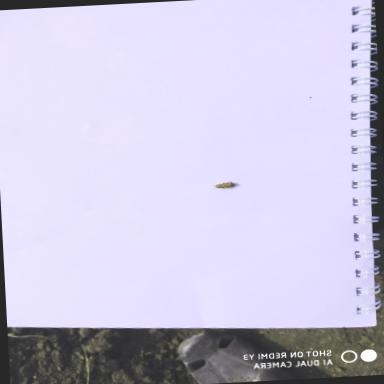pbw: (208, 180, 238, 190)
